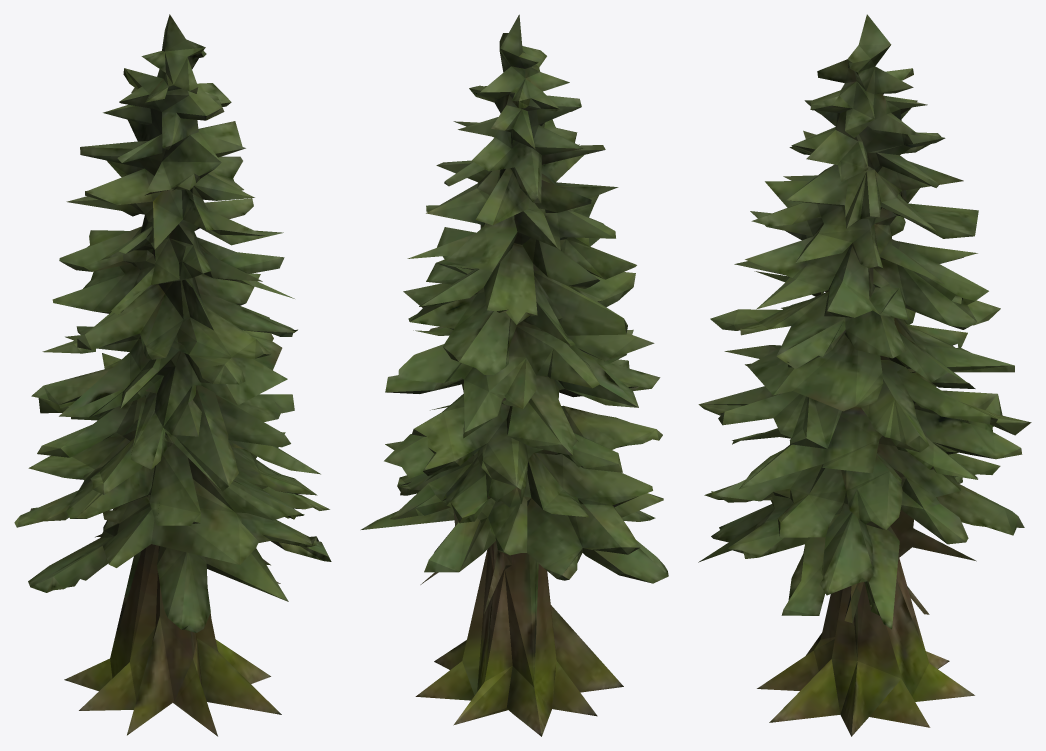
Rendered from pine.glb.
The picture shows the model from 3 angles, left to right: view 1: azimuth 30°, elevation 25°; view 2: azimuth 150°, elevation 25°; view 3: azimuth 270°, elevation 25°; orthographic projection.
Parts seen in each view (by area): view 1: geometry_0; view 2: geometry_0; view 3: geometry_0.
Boxes of the visible parts, box(x1,y1,x2,y2) form: geometry_0: box(14, 14, 331, 736); geometry_0: box(361, 14, 668, 736); geometry_0: box(698, 14, 1031, 736).
Bounding box in the file's own units: 0.4493 × 1 × 0.4465.
Materials: 1 (1 with a texture image).
